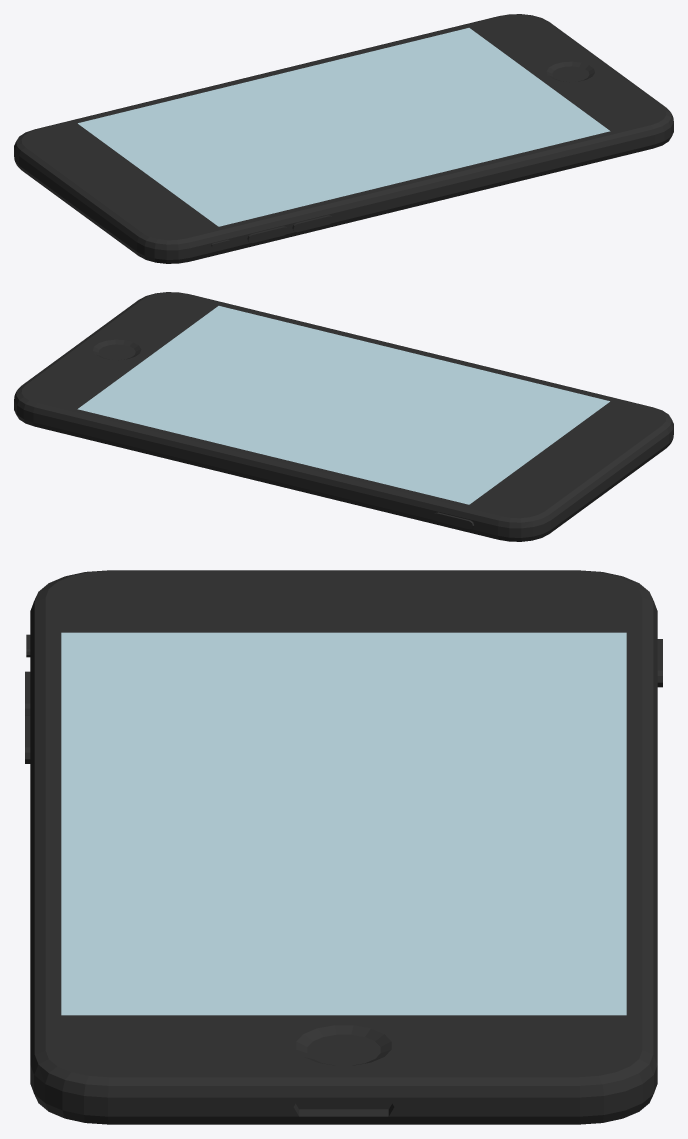
Rendered from phone.glb.
3 views of the same model, one above another, from view 1: azimuth 30°, elevation 25°; view 2: azimuth 150°, elevation 25°; view 3: azimuth 270°, elevation 25° (orthographic). The views are drawn at different scales.
Visible parts, largest first — view 1: iPhone; view 2: iPhone; view 3: iPhone.
Boxes of the visible parts, x1=… form: iPhone: x1=14, y1=14, x2=673, y2=263; iPhone: x1=14, y1=292, x2=673, y2=541; iPhone: x1=25, y1=570, x2=662, y2=1124.
Bounding box in the file's own units: 54.8 × 2.77 × 28.44.
1 material, 1 textured.
